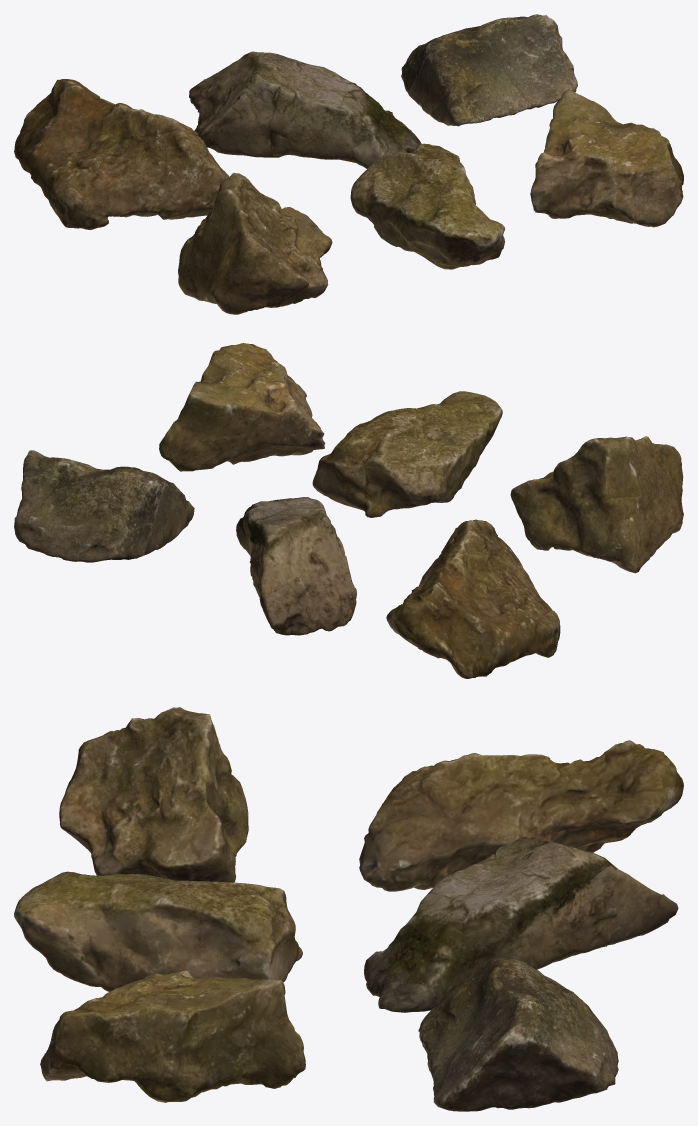
Rendered from rocks.glb.
3 renders of one model, top to bottom at view 1: azimuth 30°, elevation 25°; view 2: azimuth 150°, elevation 25°; view 3: azimuth 270°, elevation 25°, orthographic. The views are drawn at different scales.
Visible parts, largest first — view 1: rock_moss_set_01_rock01, rock_moss_set_01_rock02, rock_moss_set_01_rock06, rock_moss_set_01_rock04, rock_moss_set_01_rock03, rock_moss_set_01_rock05; view 2: rock_moss_set_01_rock04, rock_moss_set_01_rock01, rock_moss_set_01_rock05, rock_moss_set_01_rock03, rock_moss_set_01_rock06, rock_moss_set_01_rock02; view 3: rock_moss_set_01_rock01, rock_moss_set_01_rock02, rock_moss_set_01_rock05, rock_moss_set_01_rock06, rock_moss_set_01_rock04, rock_moss_set_01_rock03.
Part boxes in pixels (x1,y1,x2,y2): rock_moss_set_01_rock01: [14, 79, 229, 229]; rock_moss_set_01_rock02: [189, 51, 421, 168]; rock_moss_set_01_rock06: [530, 89, 683, 227]; rock_moss_set_01_rock04: [178, 173, 332, 314]; rock_moss_set_01_rock03: [401, 14, 577, 126]; rock_moss_set_01_rock05: [350, 143, 505, 269]; rock_moss_set_01_rock04: [510, 436, 683, 573]; rock_moss_set_01_rock01: [386, 519, 560, 678]; rock_moss_set_01_rock05: [312, 391, 502, 517]; rock_moss_set_01_rock03: [14, 450, 194, 562]; rock_moss_set_01_rock06: [159, 343, 325, 471]; rock_moss_set_01_rock02: [236, 497, 356, 635]; rock_moss_set_01_rock01: [359, 740, 683, 891]; rock_moss_set_01_rock02: [364, 836, 678, 1012]; rock_moss_set_01_rock05: [14, 871, 302, 991]; rock_moss_set_01_rock06: [40, 970, 305, 1102]; rock_moss_set_01_rock04: [59, 707, 248, 882]; rock_moss_set_01_rock03: [418, 956, 618, 1111].
Size of the model in its own units: 8 by 1.77 by 6.95.
Materials: 1 (1 with a texture image).
